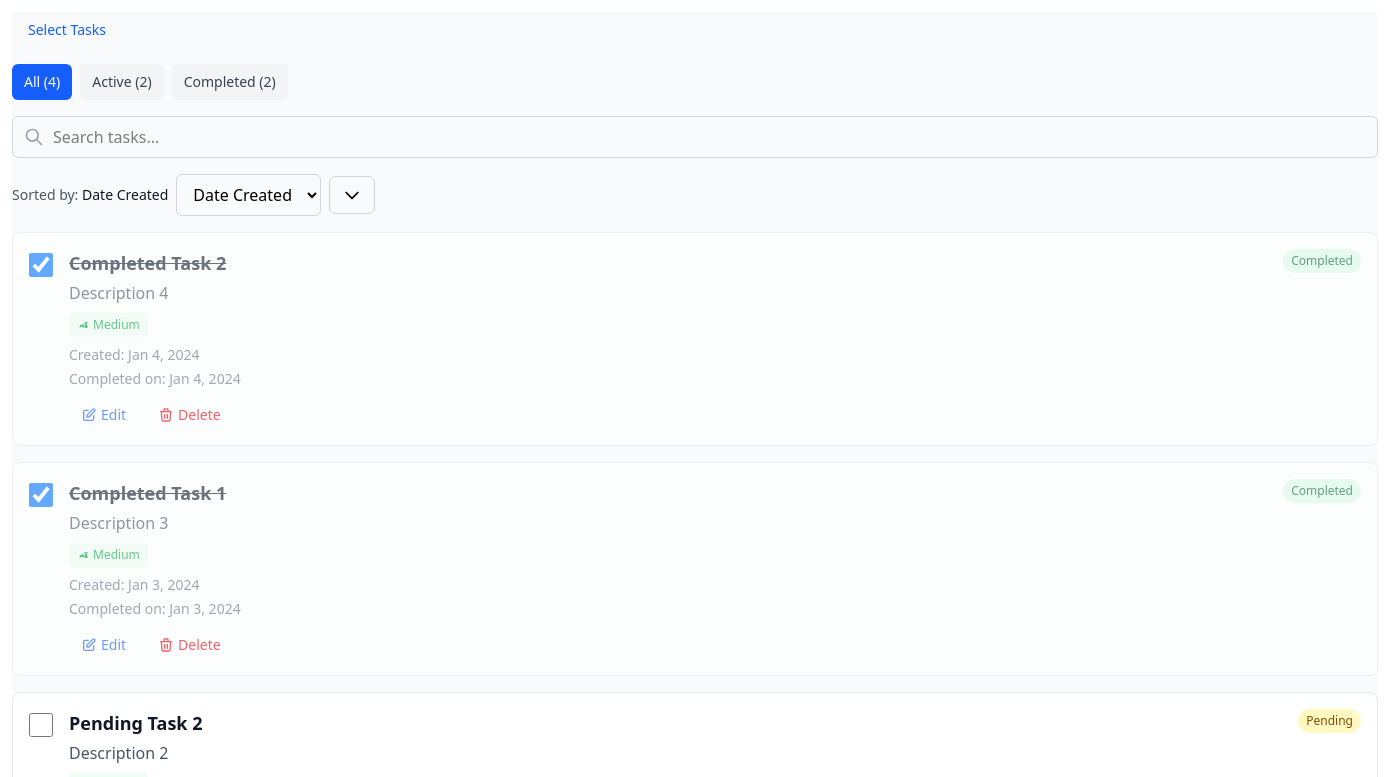
it: User Story 2.2: Filter Tasks UI › Filter Interaction › should return to showing all tasks when All is clicked
The width and height of the screenshot is (1390, 777).
// Click Active first
Click the button with aria-label "active tasks": (122, 82) [80,64,164,100]
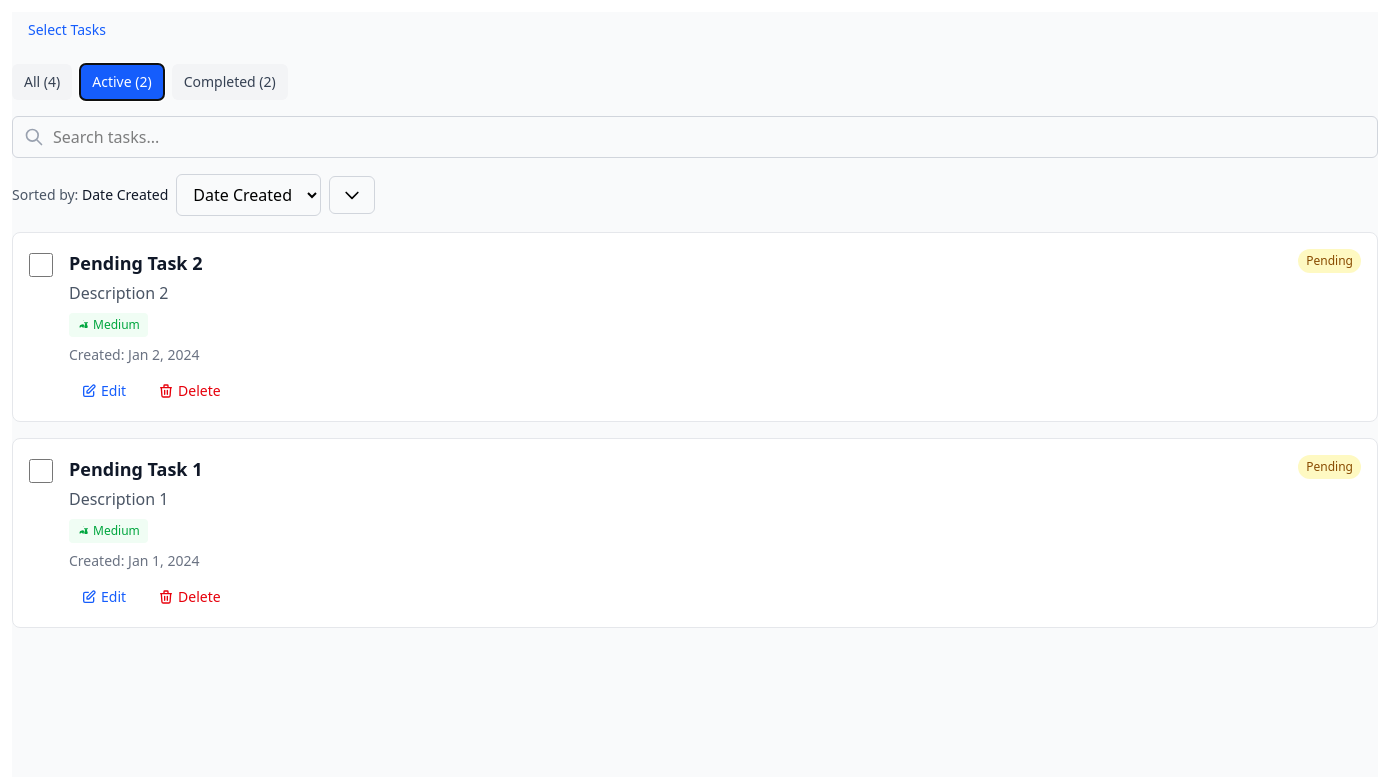
// Then click All
Click the button with aria-label "all tasks": (42, 82) [12,64,72,100]
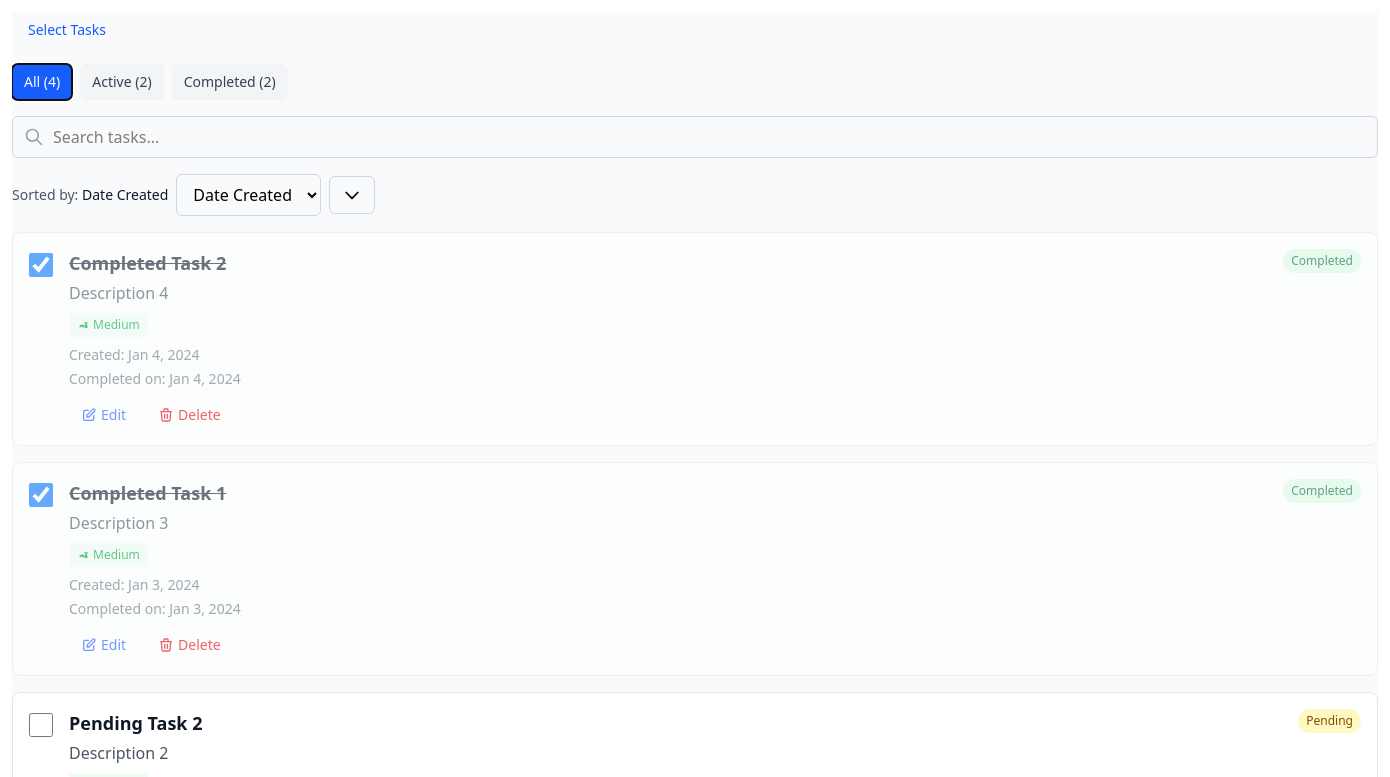
Expected: the heading "Pending Task 2" is shown, [69,709,202,737]
Now the heading "Completed Task 1" is shown, box [69,479,226,507]
Now the heading "Completed Task 2" is shown, box [69,249,226,277]
